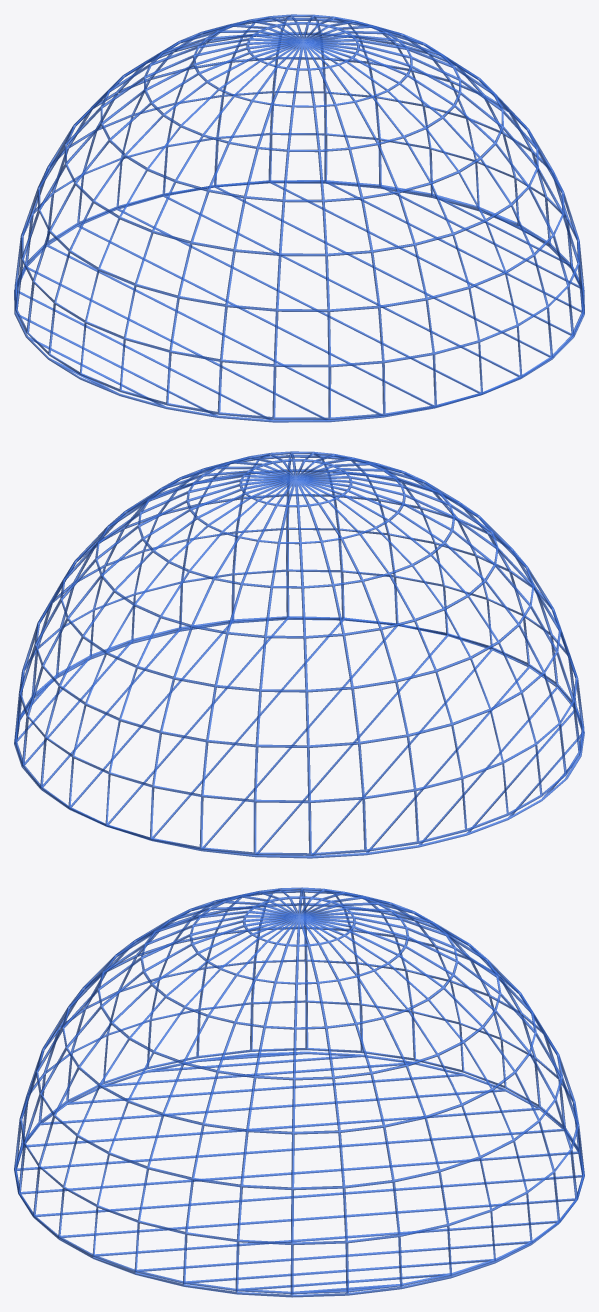
The model's file is dome_c3.glb.
3 renders of one model, top to bottom at view 1: azimuth 30°, elevation 25°; view 2: azimuth 150°, elevation 25°; view 3: azimuth 270°, elevation 25°, orthographic.
Parts seen in each view (by area): view 1: dome1_3; view 2: dome1_3; view 3: dome1_3.
Part boxes in pixels (x1,y1,x2,y2): dome1_3: [14, 14, 584, 422]; dome1_3: [14, 451, 584, 858]; dome1_3: [14, 887, 584, 1297].
Bounding box in the file's own units: 1.41 × 0.7166 × 1.41.
